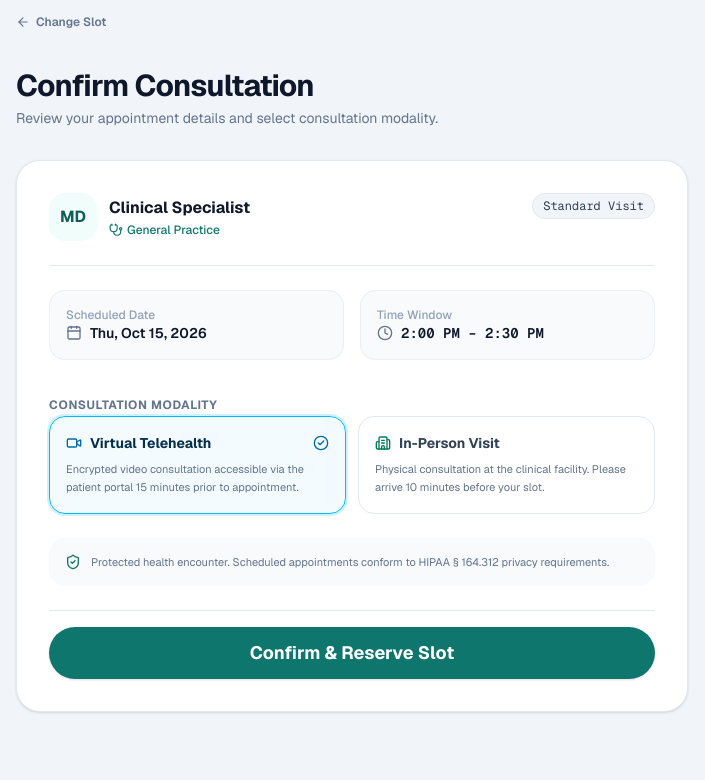
Scenario: BookingConfirm Component (Screen B4) › handles 409 double-booking conflict gracefully with empathetic recovery UI
Click the button "Confirm & Reserve Slot".
click(352, 653)  # box left=49, top=627, right=655, bottom=679
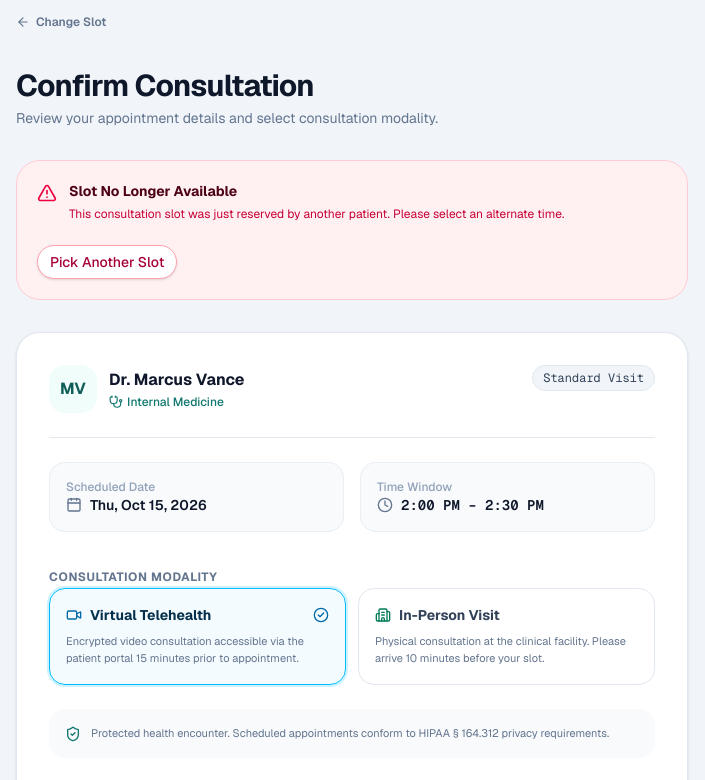
Expected: the heading "Slot No Longer Available" is shown, left=69, top=182, right=237, bottom=200
Expected: the button "Pick Another Slot" is shown, left=37, top=244, right=177, bottom=278
